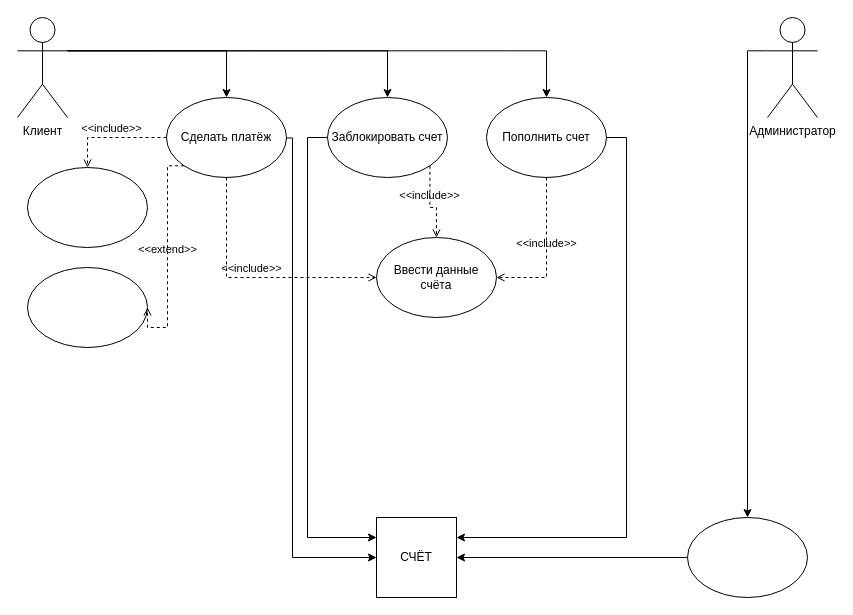
This 853x615 diagram has some shape labels left out. The shapes that lost their labels are listed below. From the top down, each one's centre as x and y in pixels, then its label:
At [87,207]: "Выбрать целевой счёт".
At [87,307]: "погасить комиссию".
At [747,557]: "разблокировать счет".
